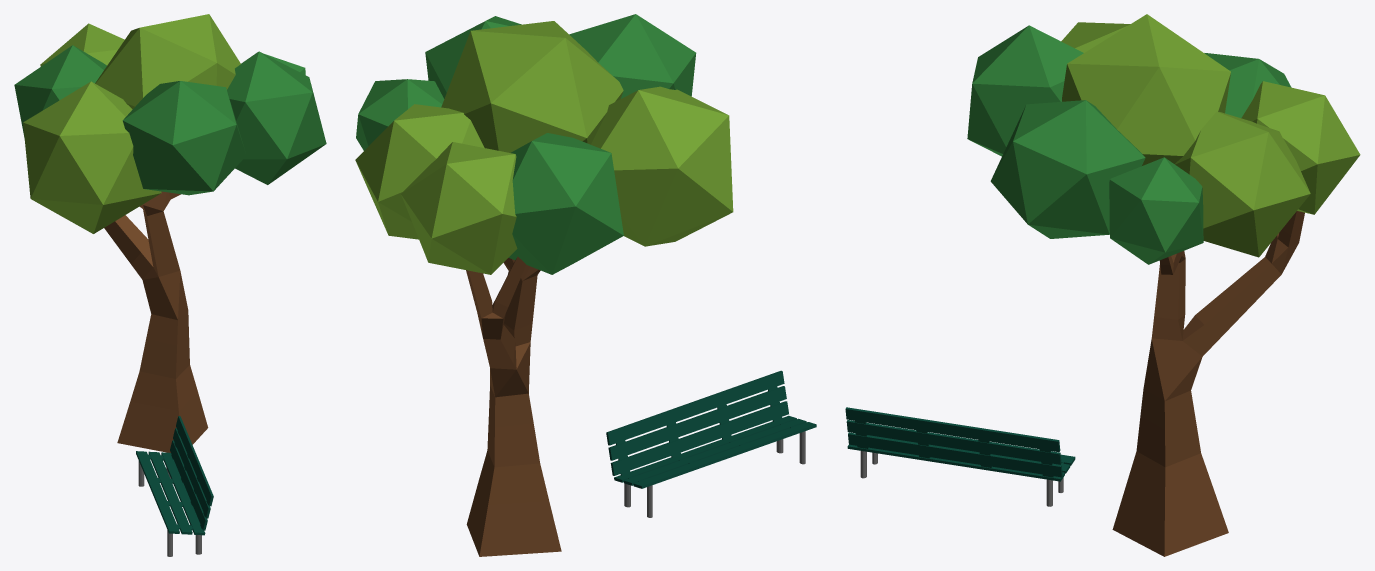
The model's file is park.gltf.
3 views of the same model, side by side, from view 1: azimuth 30°, elevation 25°; view 2: azimuth 150°, elevation 25°; view 3: azimuth 270°, elevation 25° (orthographic). The views are drawn at different scales.
Visible parts, largest first — view 1: Icosphere.001, Cube, Icosphere.007, Icosphere.006, Icosphere.004, Icosphere.003, Cube.002, Cube.001, Icosphere.002; view 2: Icosphere.001, Cube, Icosphere.004, Icosphere.003, Icosphere.002, Cube.001, Icosphere.005, Icosphere.007, Cube.002, Icosphere, Icosphere.006; view 3: Cube, Icosphere.004, Icosphere.006, Icosphere.005, Icosphere.007, Cube.001, Icosphere, Icosphere.002, Icosphere.003, Cube.002, Icosphere.001.
Boxes of the visible parts, <box> form: Icosphere.001: <box>23,81,161,233</box>; Cube: <box>104,191,208,452</box>; Icosphere.007: <box>122,81,246,195</box>; Icosphere.006: <box>227,51,326,184</box>; Icosphere.004: <box>95,14,240,109</box>; Icosphere.003: <box>14,45,106,137</box>; Cube.002: <box>136,451,205,535</box>; Cube.001: <box>170,416,213,530</box>; Icosphere.002: <box>40,23,124,66</box>; Icosphere.001: <box>591,86,733,246</box>; Cube: <box>466,256,561,556</box>; Icosphere.004: <box>441,21,623,152</box>; Icosphere.003: <box>508,133,623,274</box>; Icosphere.002: <box>401,142,517,274</box>; Cube.001: <box>606,370,788,475</box>; Icosphere.005: <box>355,104,484,239</box>; Icosphere.007: <box>569,14,696,98</box>; Cube.002: <box>614,415,816,488</box>; Icosphere: <box>356,79,444,150</box>; Icosphere.006: <box>425,16,521,98</box>; Cube: <box>1112,211,1304,556</box>; Icosphere.004: <box>1062,14,1230,165</box>; Icosphere.006: <box>990,100,1145,238</box>; Icosphere.005: <box>1174,111,1310,257</box>; Icosphere.007: <box>967,25,1083,156</box>; Cube.001: <box>845,407,1062,477</box>; Icosphere: <box>1109,157,1203,264</box>; Icosphere.002: <box>1241,81,1360,214</box>; Icosphere.003: <box>1204,53,1291,117</box>; Cube.002: <box>847,435,1075,481</box>; Icosphere.001: <box>1061,22,1130,52</box>.
Bounding box in the file's own units: 5.45 × 7.49 × 7.
